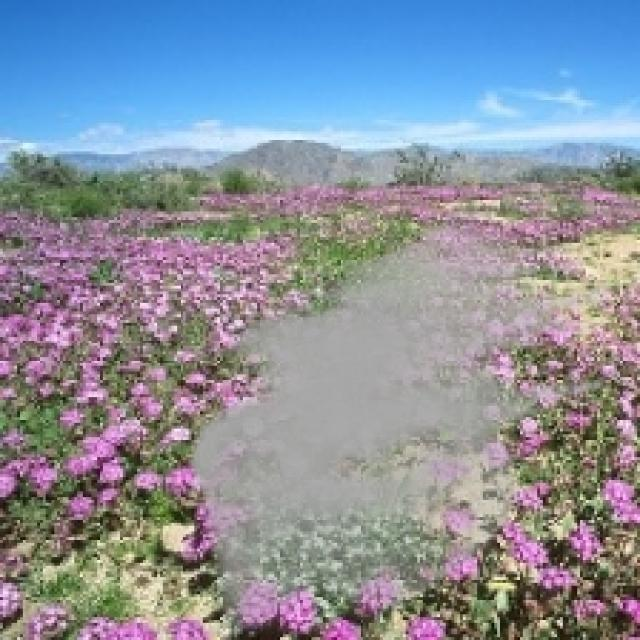Smoke: (188, 217, 608, 632)
